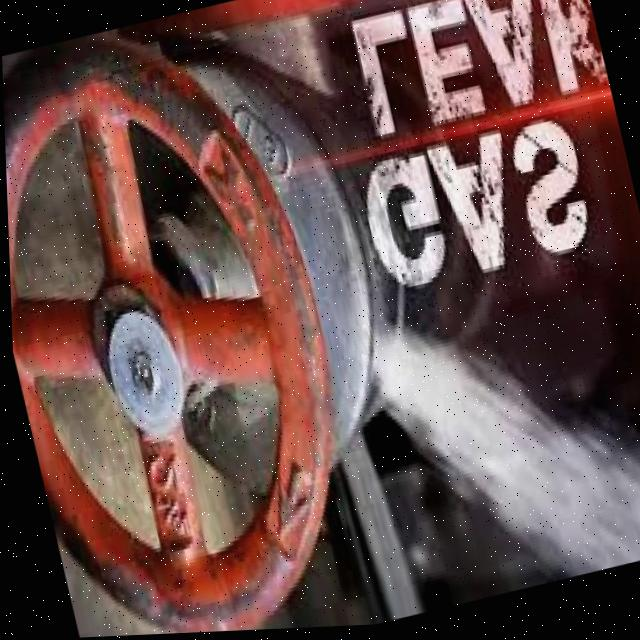corrosion: (343, 280, 492, 473)
